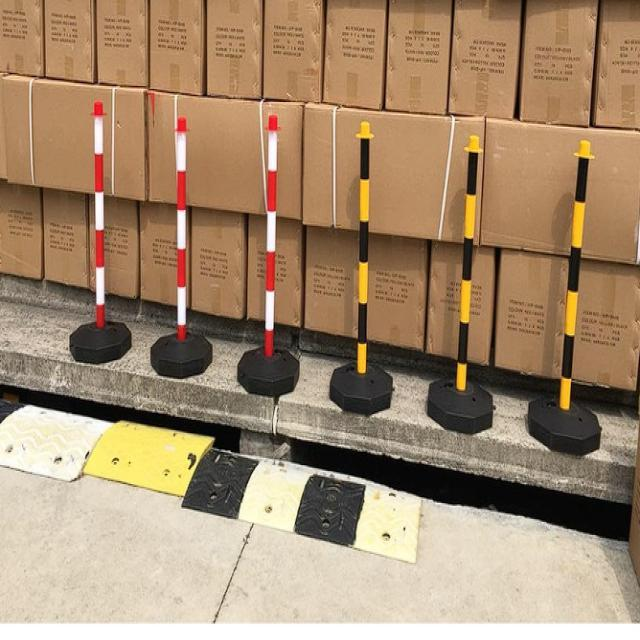obstacle: (560, 138, 598, 423), (455, 133, 482, 386), (87, 98, 112, 320), (262, 104, 283, 363), (356, 119, 376, 382), (171, 110, 193, 336)
